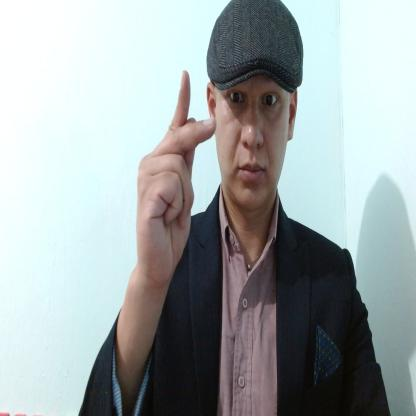P: (136, 68, 218, 279)
